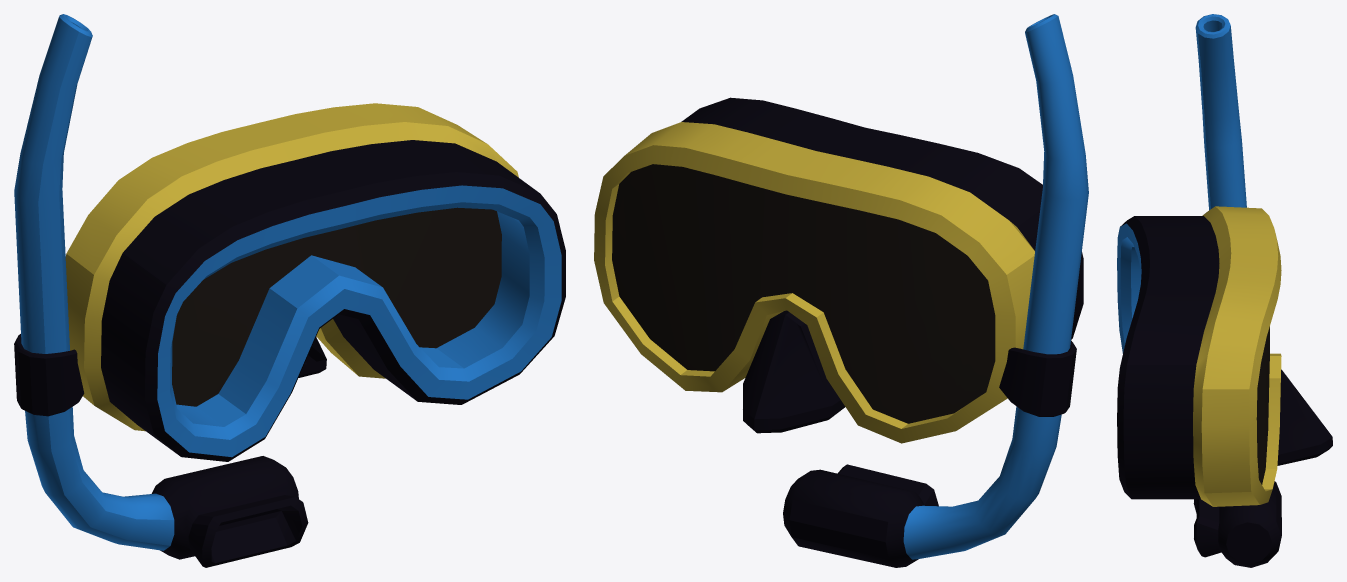
File: Scuba mask.FBX
The picture shows the model from 3 angles, left to right: view 1: azimuth 30°, elevation 25°; view 2: azimuth 150°, elevation 25°; view 3: azimuth 270°, elevation 25°; orthographic projection. The views are drawn at different scales.
Parts seen in each view (by area): view 1: Scuba mask; view 2: Scuba mask; view 3: Scuba mask.
Part boxes in pixels (x1,y1,x2,y2): Scuba mask: [14, 14, 565, 567]; Scuba mask: [594, 14, 1088, 567]; Scuba mask: [1117, 14, 1332, 567].
Bounding box in the file's own units: 989 × 470 × 1117.
